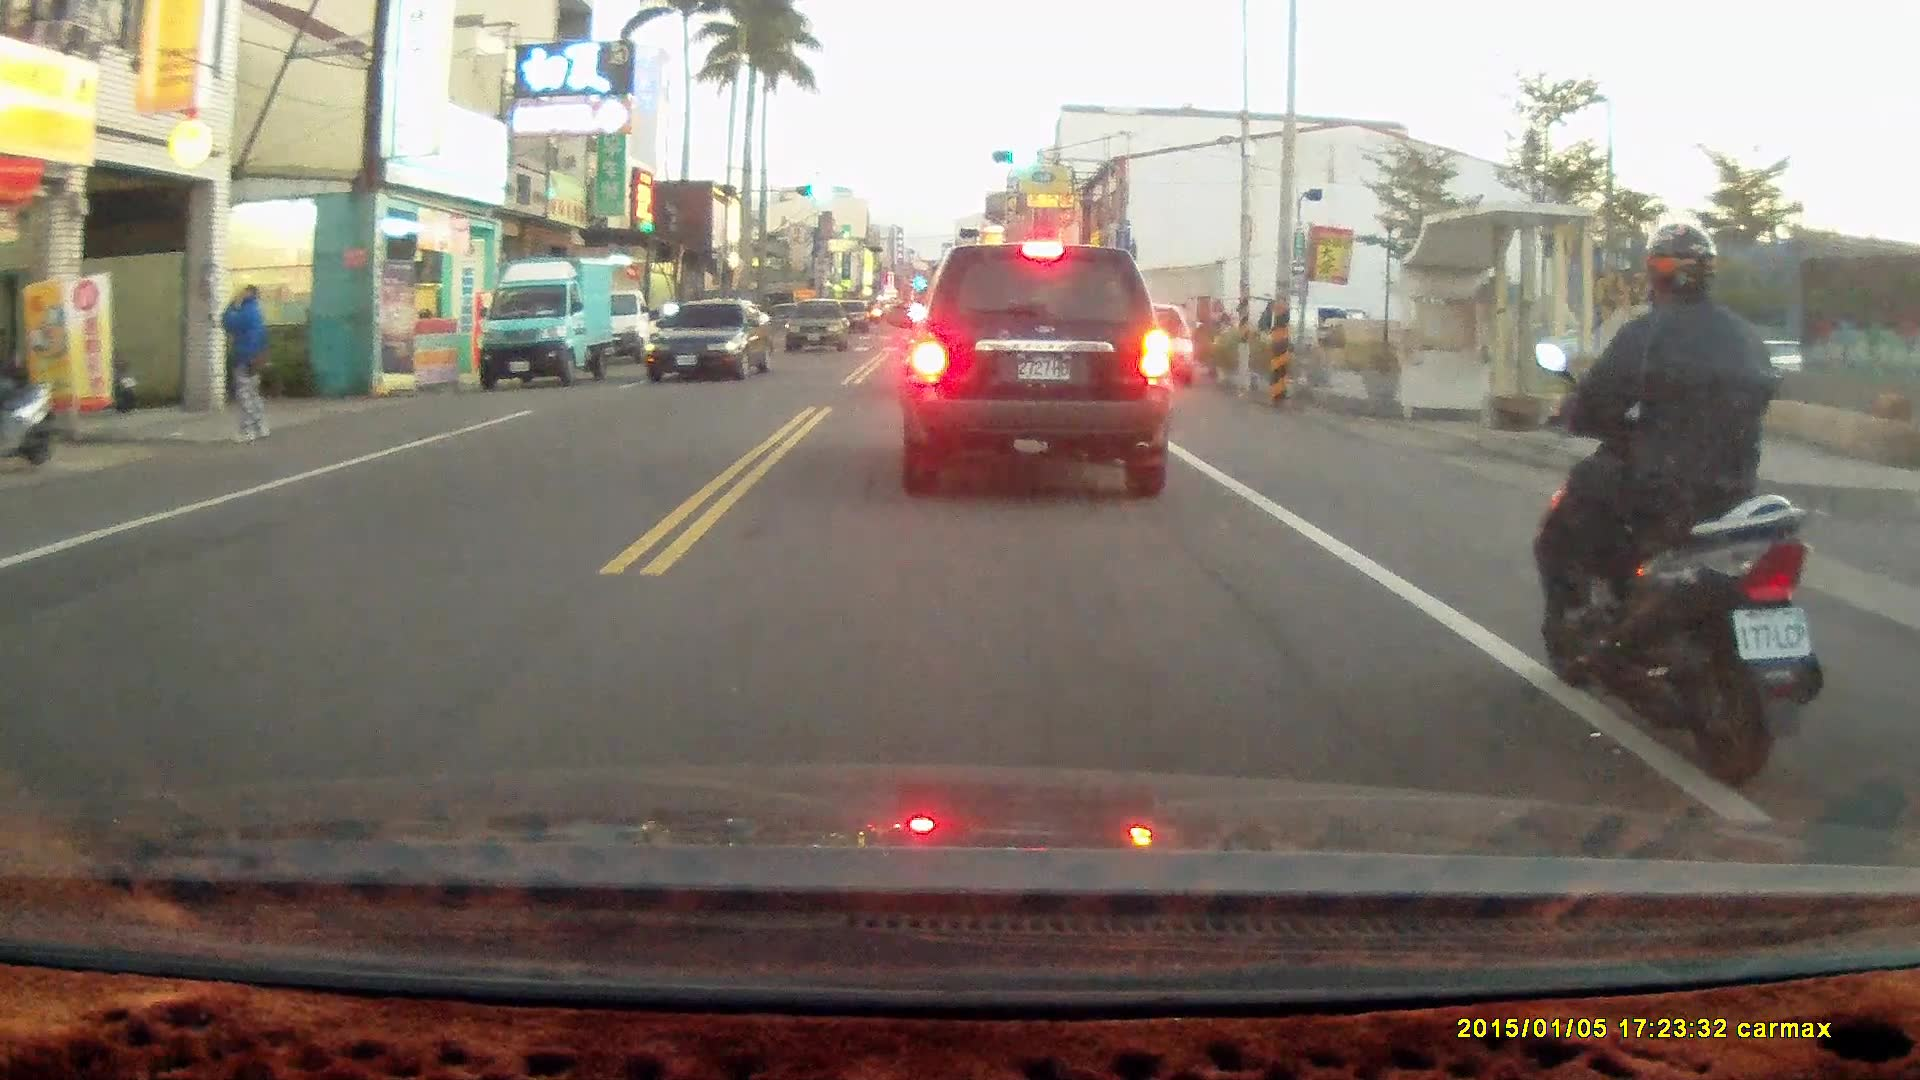pedestrian: (214, 280, 275, 445)
rider: (1532, 216, 1825, 790)
vehicle: (896, 239, 1177, 500), (475, 257, 615, 396), (643, 299, 779, 383), (783, 299, 852, 356)
